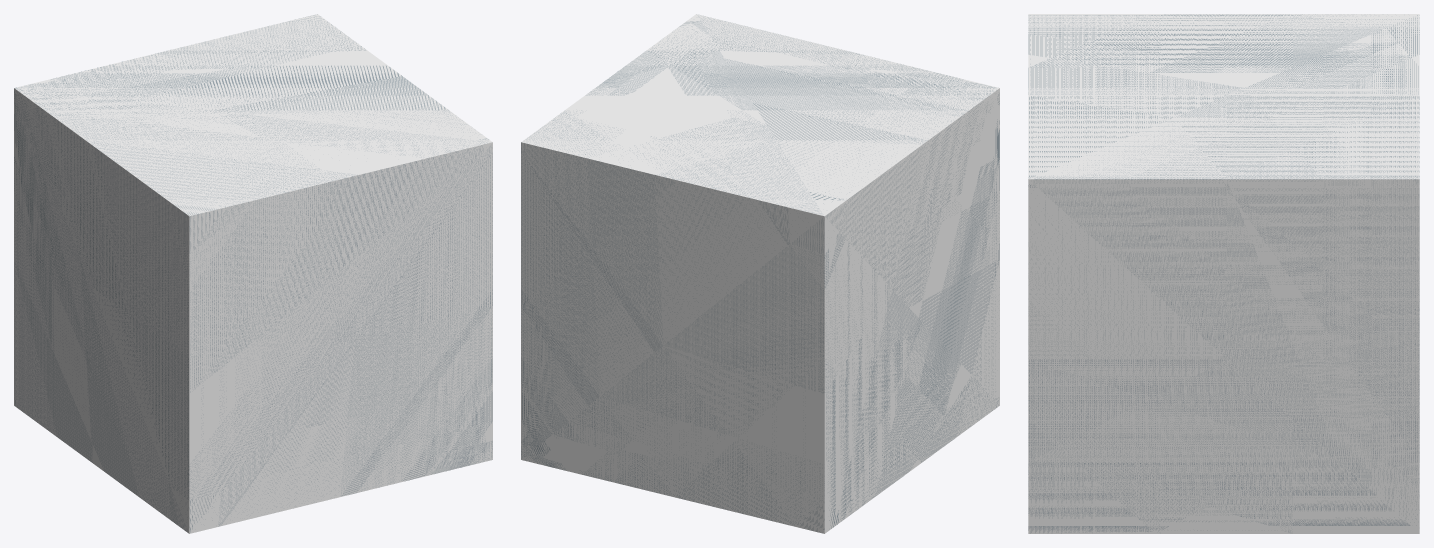
Rendered from RightHand.obj.
3 renders of one model, left to right at view 1: azimuth 30°, elevation 25°; view 2: azimuth 150°, elevation 25°; view 3: azimuth 270°, elevation 25°, orthographic. The views are drawn at different scales.
Parts seen in each view (by area): view 1: Mesh1 Model; view 2: Mesh1 Model; view 3: Mesh1 Model.
Part boxes in pixels (<box>): Mesh1 Model: <box>14,14,492,533</box>; Mesh1 Model: <box>521,14,999,533</box>; Mesh1 Model: <box>1028,14,1419,533</box>.
Bounding box in the file's own units: 0.06 × 0.06 × 0.06.
